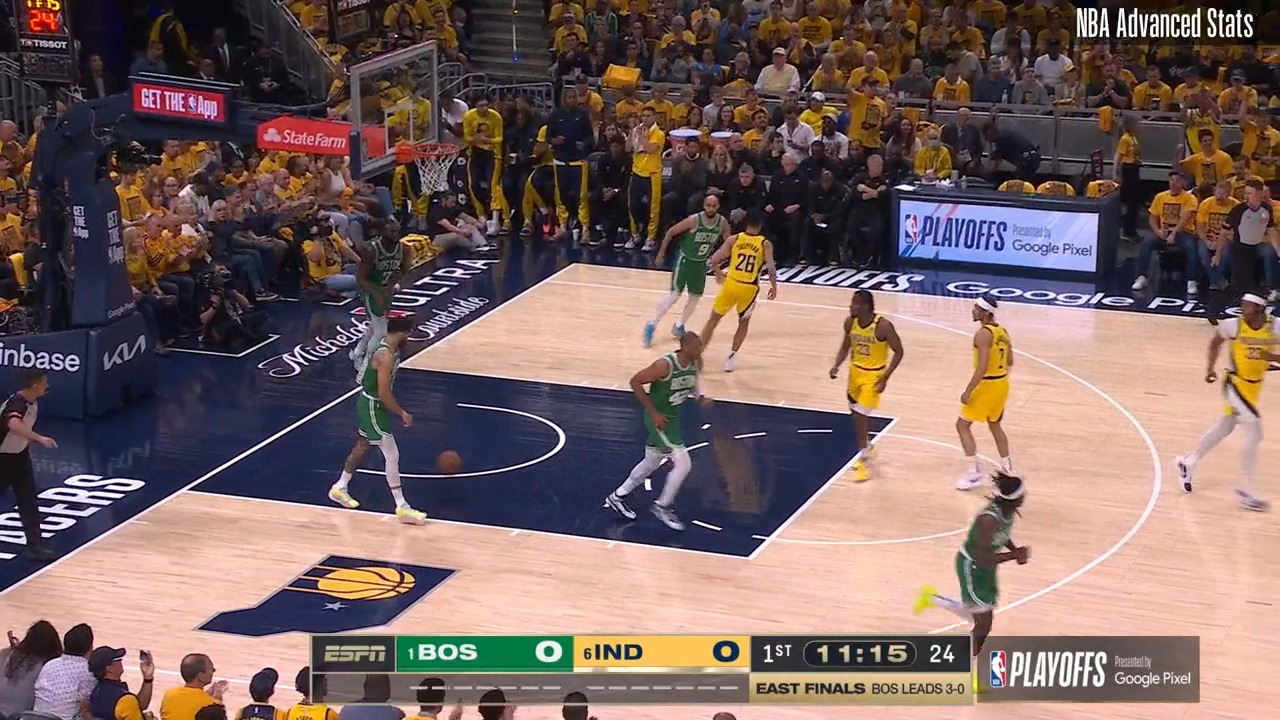basketball: (437, 447, 461, 476)
